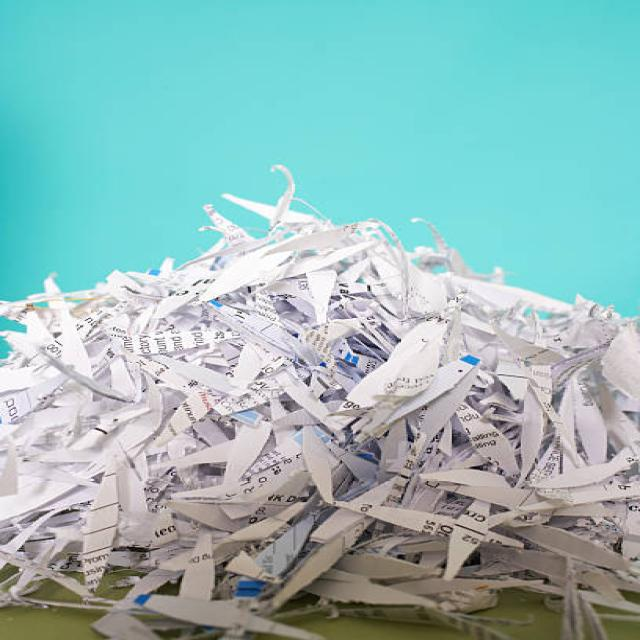electronic: (0, 164, 638, 637)
